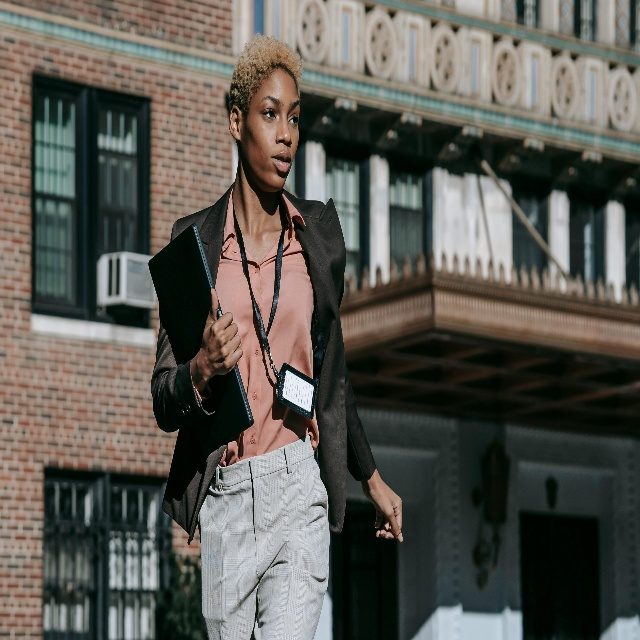Sin_guantes: (198, 289, 243, 377), (368, 478, 404, 542)
